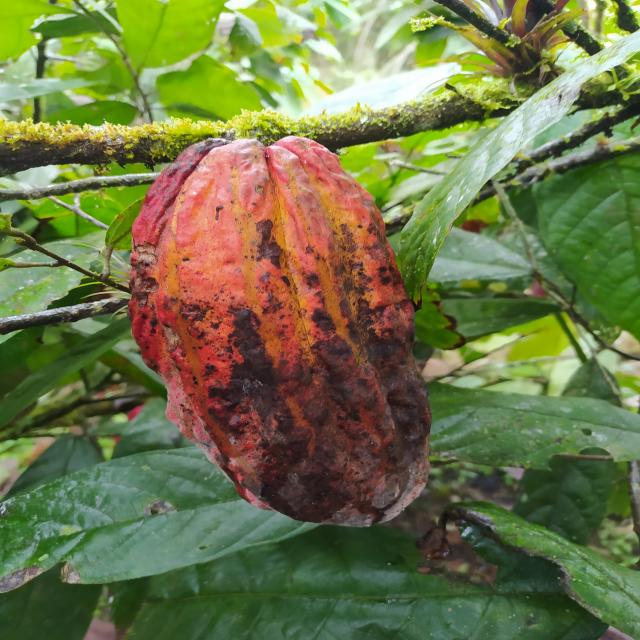Fitoftora: (125, 135, 436, 528)
